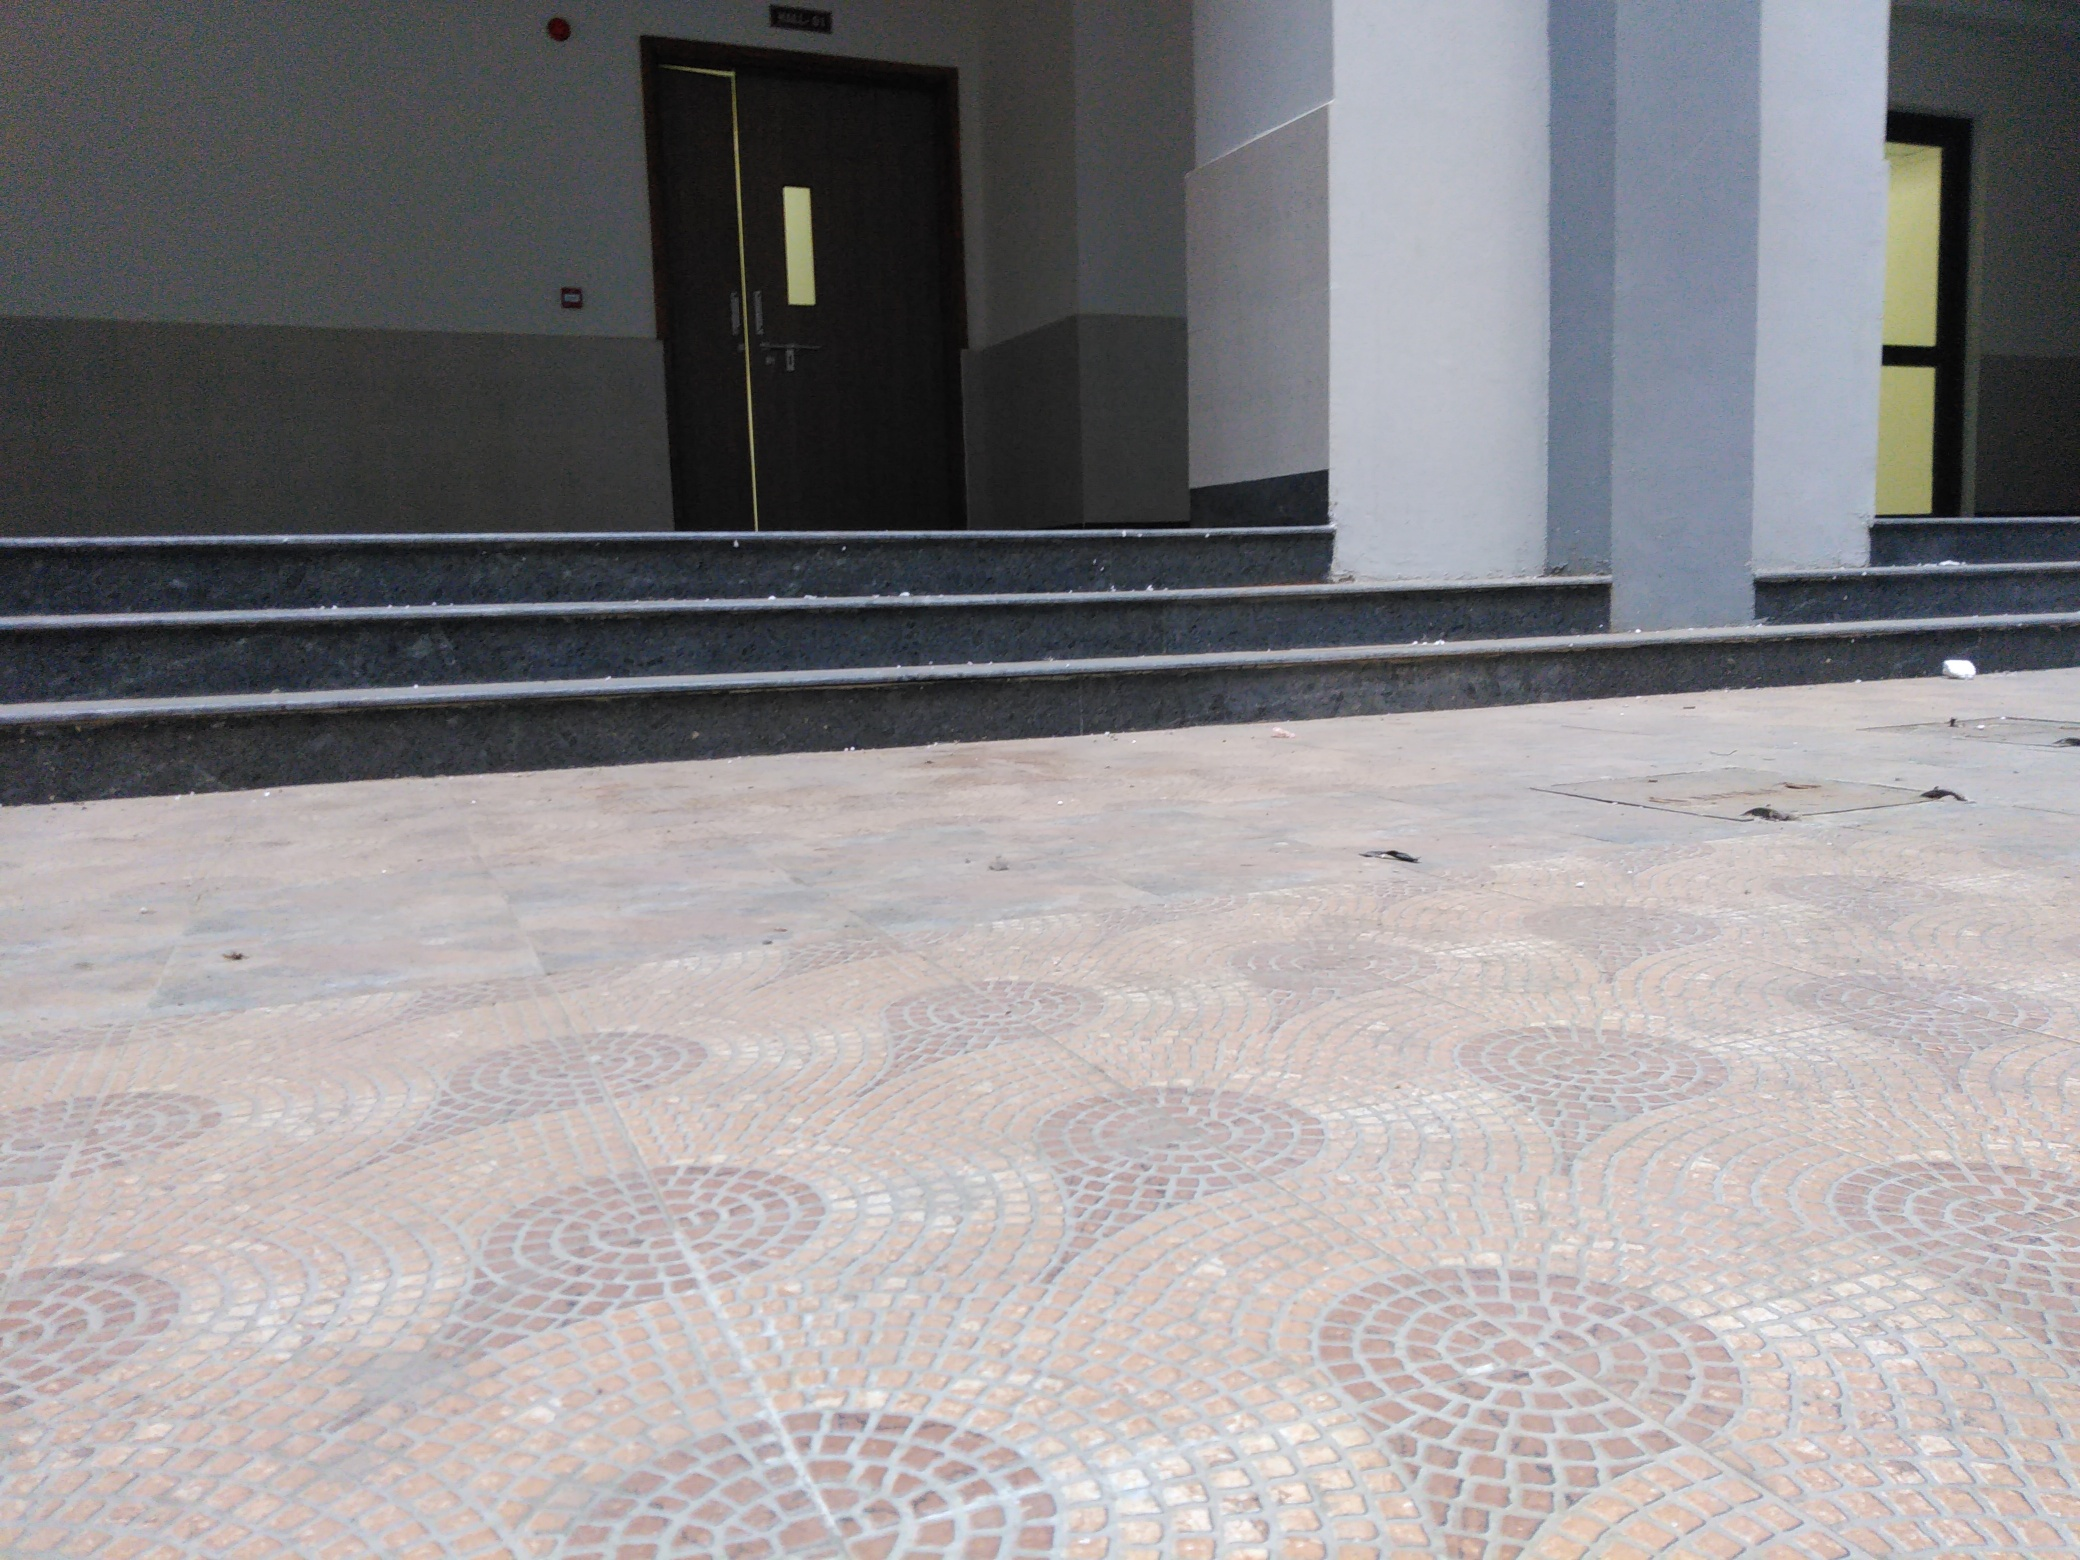stairs_up: (20, 528, 1525, 713), (1861, 515, 2080, 675)
